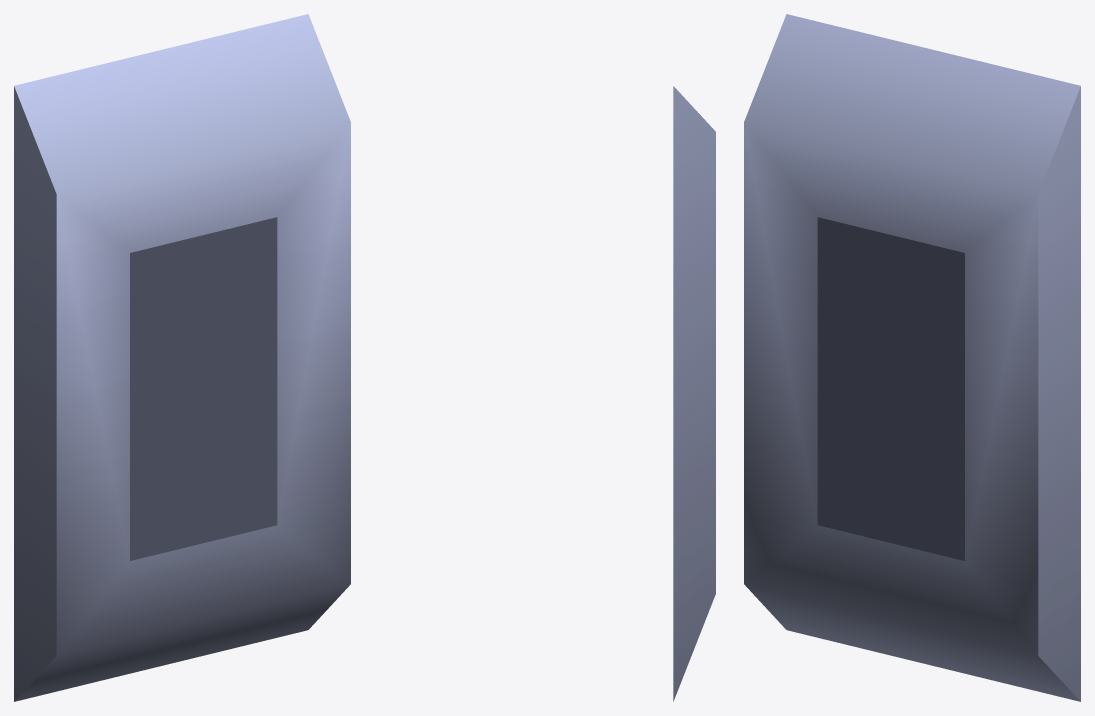
The model's file is kenney-space-station-wall-switch.glb.
3 renders of one model, left to right at view 1: azimuth 30°, elevation 25°; view 2: azimuth 150°, elevation 25°; view 3: azimuth 330°, elevation 25°, orthographic.
Visible parts, largest first — view 1: wall-switch; view 2: wall-switch; view 3: wall-switch.
Boxes of the visible parts, left/top/right/bottom form: wall-switch: left=14, top=14, right=350, bottom=701; wall-switch: left=673, top=86, right=715, bottom=701; wall-switch: left=744, top=14, right=1080, bottom=701.
Bounding box in the file's own units: 0.1 × 0.2 × 0.025.
1 material, 1 textured.
